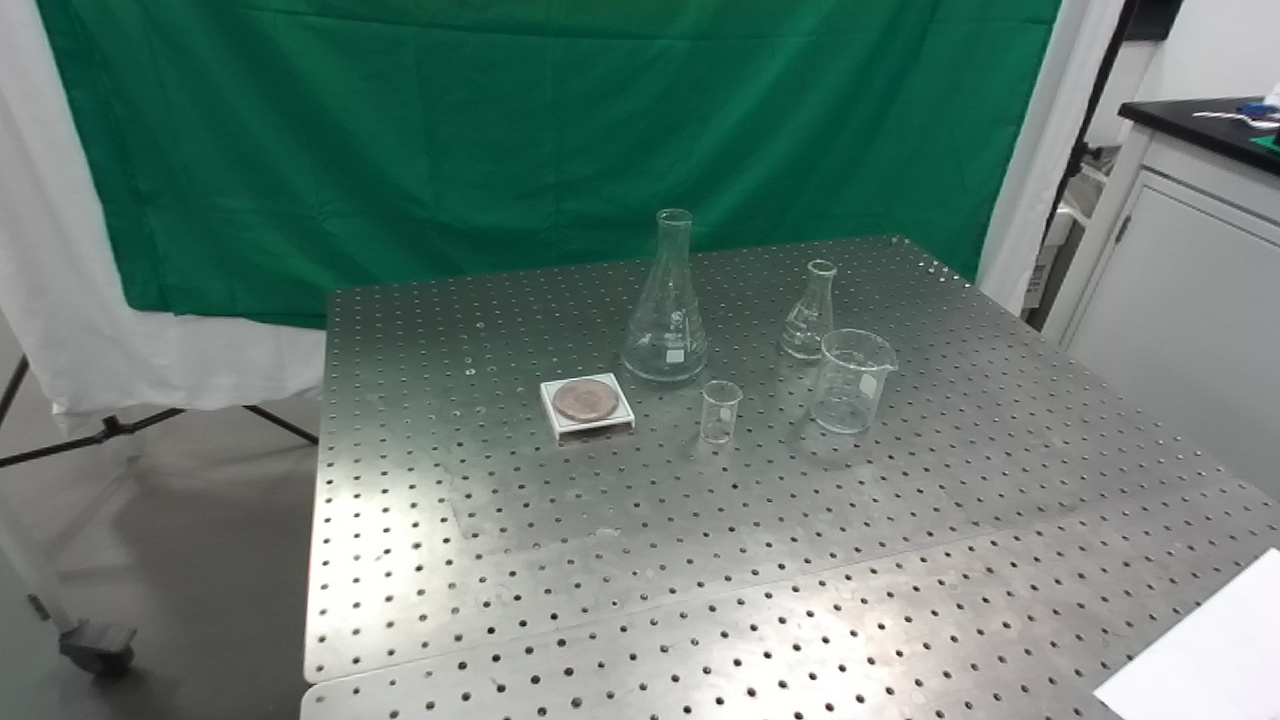glass: (620, 206, 714, 382), (805, 326, 903, 438), (779, 256, 845, 362), (698, 379, 744, 448)
plate: (537, 369, 636, 448)
